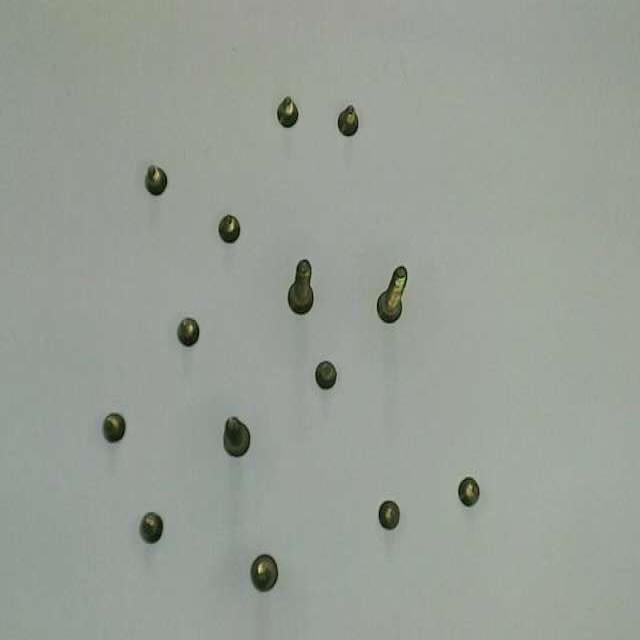Parafuso: (377, 266, 406, 322), (288, 259, 313, 314), (223, 416, 249, 457), (250, 555, 277, 591), (102, 412, 125, 442), (276, 96, 298, 127), (140, 512, 162, 543), (337, 106, 358, 137), (218, 215, 240, 243), (145, 166, 166, 195), (458, 478, 479, 507), (379, 500, 399, 530), (177, 318, 198, 346), (315, 362, 336, 389)
